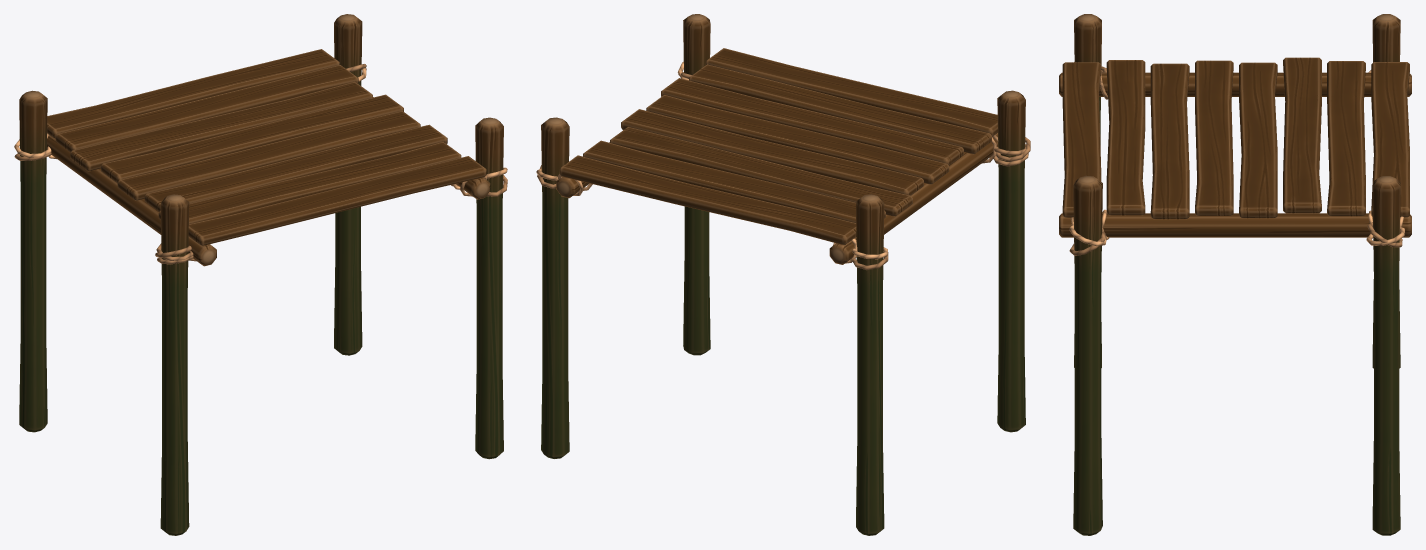
File: Single.fbx
3 renders of one model, left to right at view 1: azimuth 30°, elevation 25°; view 2: azimuth 150°, elevation 25°; view 3: azimuth 270°, elevation 25°, orthographic. The views are drawn at different scales.
Visible parts, largest first — view 1: Single; view 2: Single; view 3: Single.
Part boxes in pixels (box(x1,y1,x2,y2)): Single: box(14, 14, 507, 535); Single: box(536, 14, 1030, 535); Single: box(1059, 14, 1411, 535).
Bounding box in the file's own units: 241 × 220 × 200.
